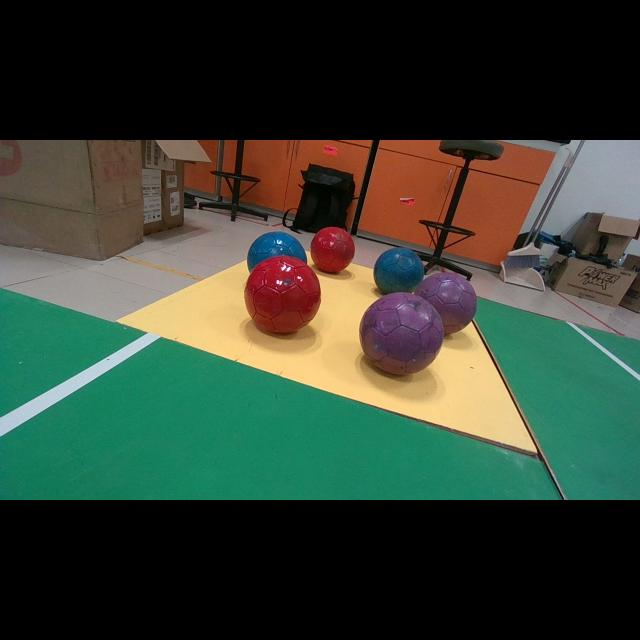B: (248, 231, 308, 271), (374, 248, 425, 294)
P: (360, 292, 445, 374), (415, 272, 478, 333)
R: (244, 256, 321, 333), (311, 226, 355, 273)
